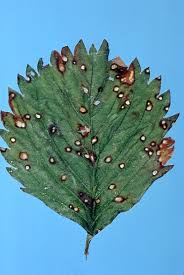Diseased_Leaves: (110, 61, 139, 89), (73, 189, 100, 212), (155, 139, 172, 169), (52, 54, 74, 73), (15, 120, 30, 131), (78, 126, 91, 138), (20, 150, 31, 163), (115, 194, 126, 204), (10, 91, 14, 108), (141, 136, 145, 140)
